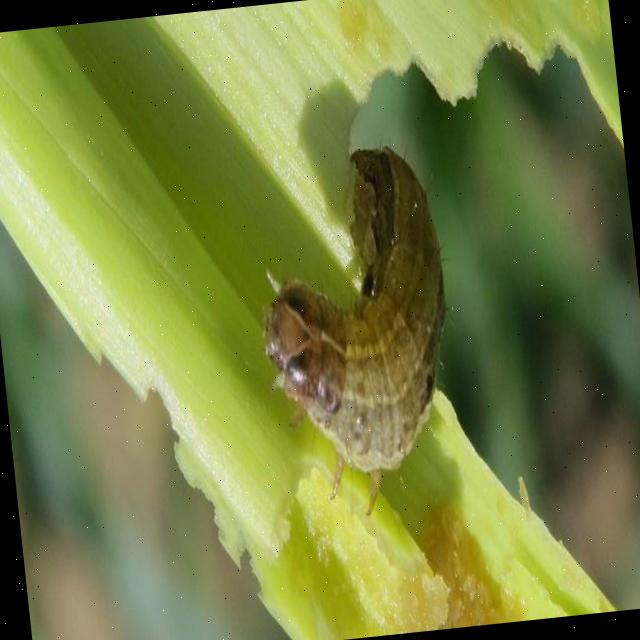worm: (242, 141, 471, 529)
